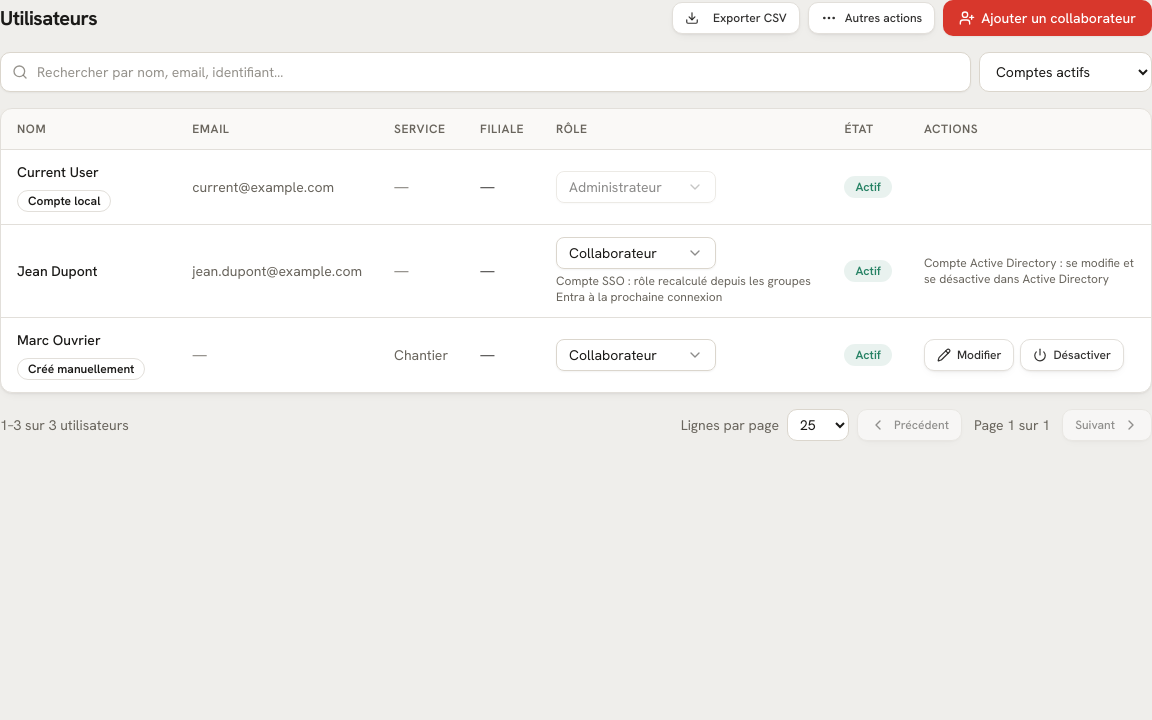
Test: UtilisateursPage — collaborateurs créés manuellement › désactive un compte manuel après confirmation, via POST /users/:id/deactivate
Expected: the text "Marc Ouvrier" is shown, [17, 330, 101, 350]
Click the button with aria-label "Désactiver le compte de Marc Ouvrier" at (1072, 355), box [1020, 339, 1124, 371]
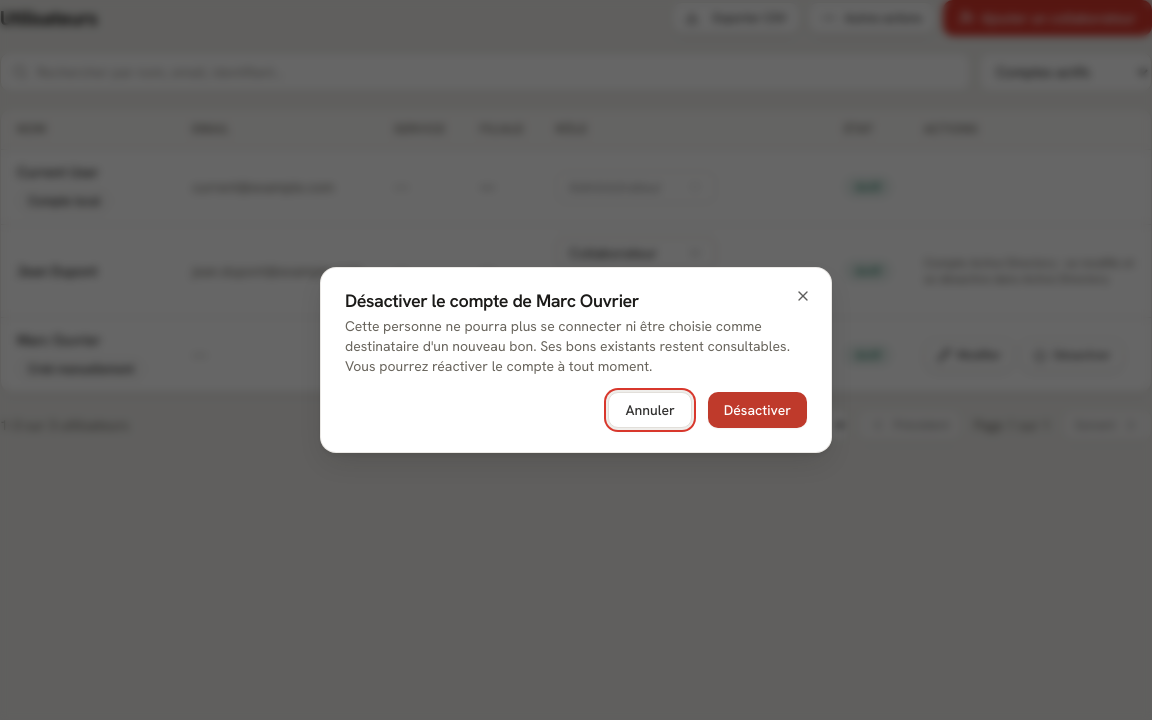
Click the button "Désactiver" at (757, 410), box [708, 392, 807, 428]
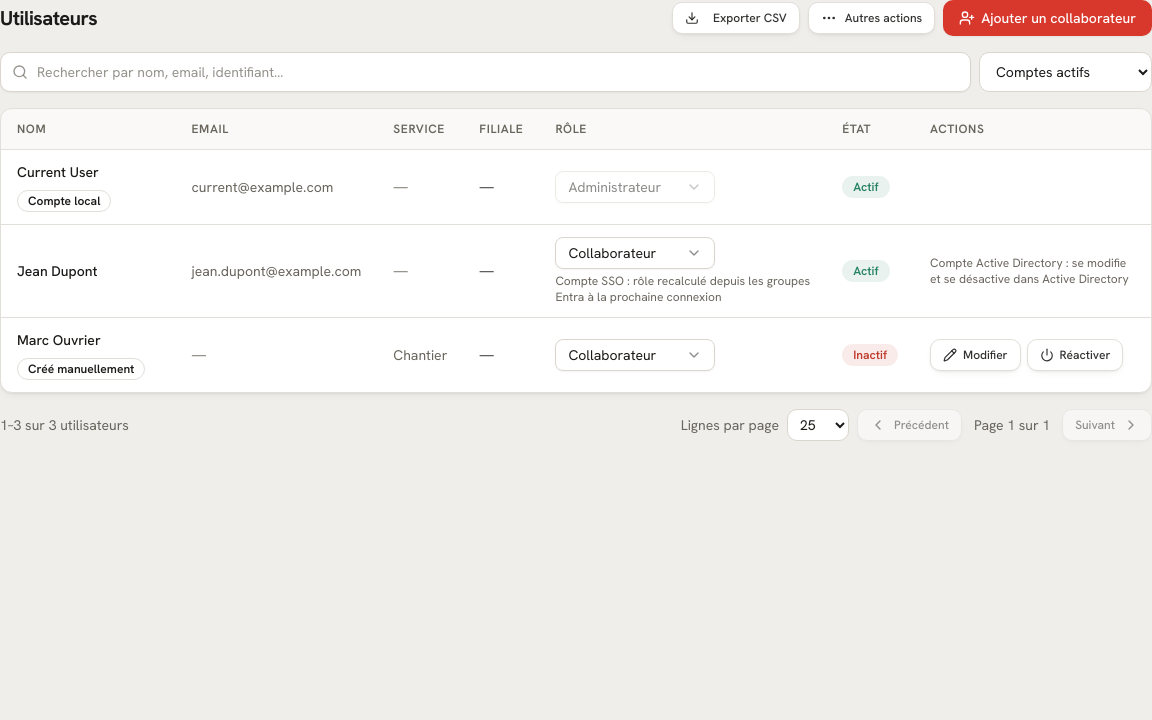
Now the text "Inactif" is shown, box [842, 344, 898, 366]
